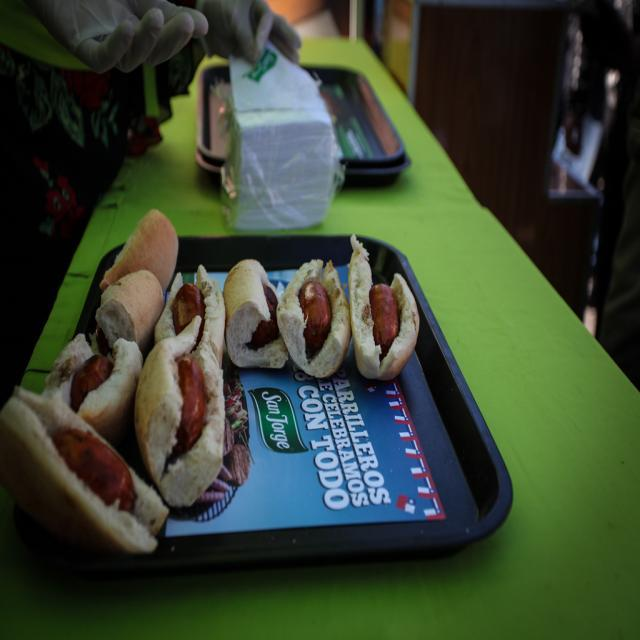Hot dog: (1, 207, 349, 561), (352, 255, 418, 379)
